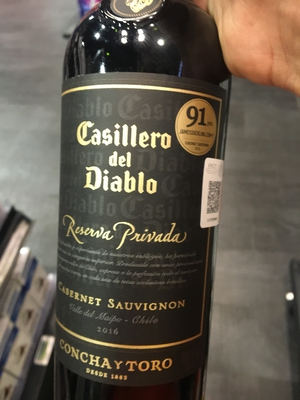casillero del diablo reserva privada cabernet sauvignon: (44, 17, 247, 388)
